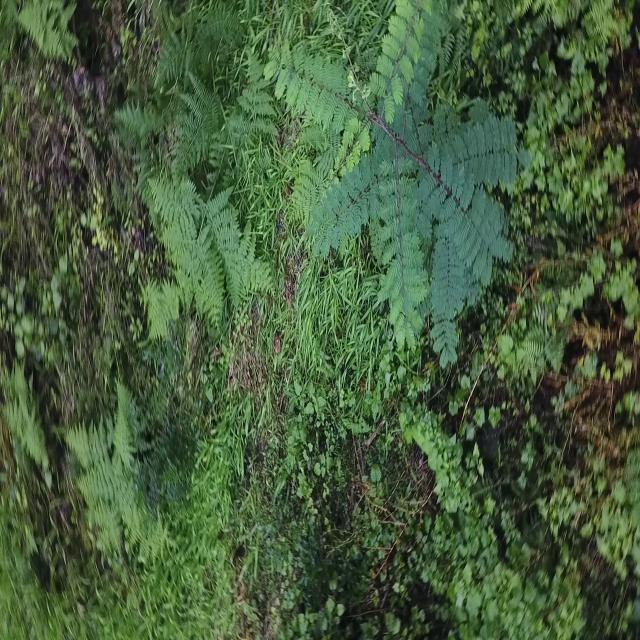Mysore-Thorn-Weed: (258, 0, 525, 361)
